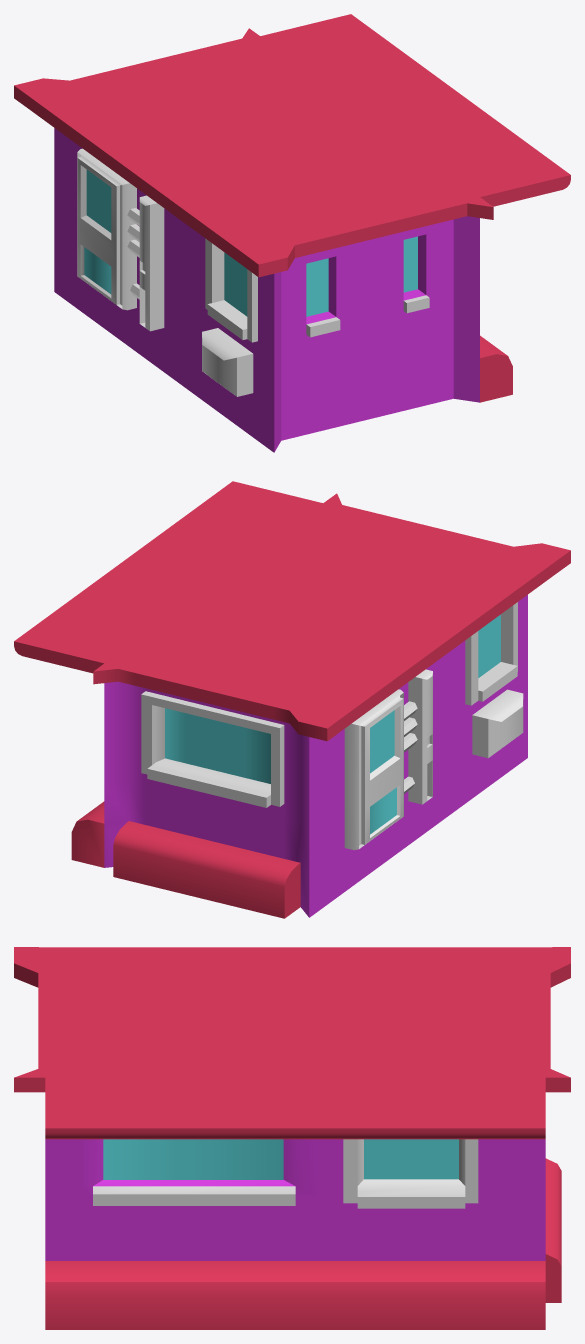
Rendered from FBX_LC_mHouse5.fbx.
3 renders of one model, top to bottom at view 1: azimuth 30°, elevation 25°; view 2: azimuth 150°, elevation 25°; view 3: azimuth 270°, elevation 25°, orthographic. The views are drawn at different scales.
Parts seen in each view (by area): view 1: Cube.031; view 2: Cube.031; view 3: Cube.031.
Part boxes in pixels (bbox=[...]): Cube.031: bbox=[14, 14, 570, 452]; Cube.031: bbox=[14, 481, 570, 918]; Cube.031: bbox=[14, 947, 570, 1329].
Size of the model in its own units: 1536 by 925 by 1997.
